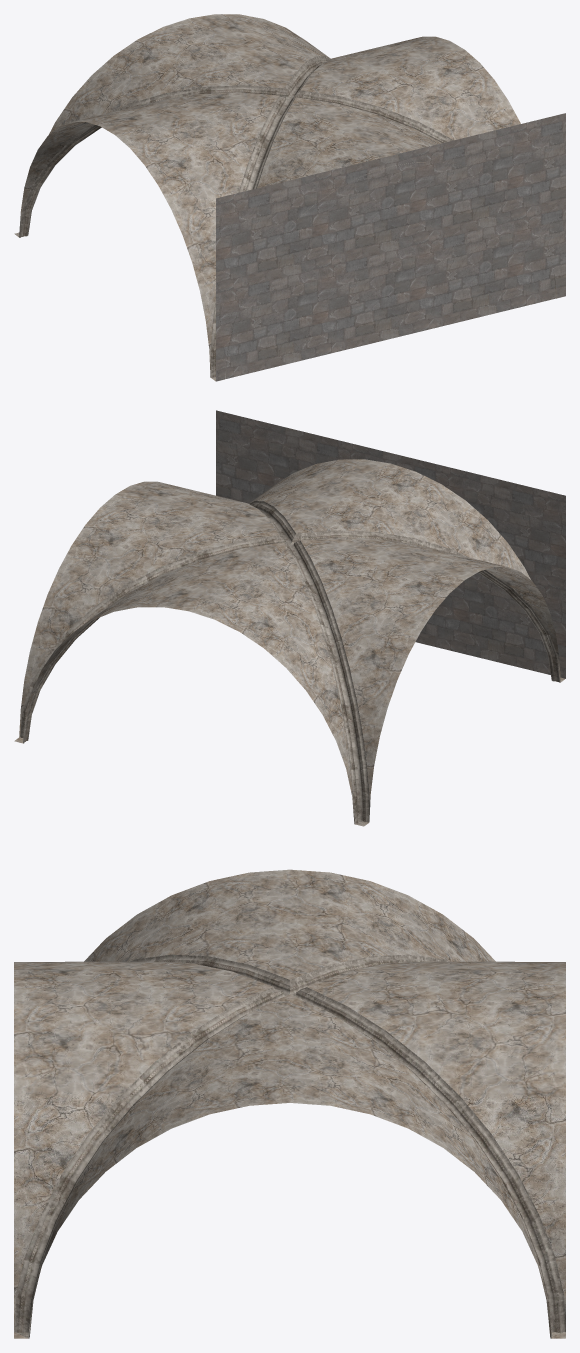
3 views of the same model, one above another, from view 1: azimuth 30°, elevation 25°; view 2: azimuth 150°, elevation 25°; view 3: azimuth 270°, elevation 25° (orthographic). The views are drawn at different scales.
Visible parts, largest first — view 1: SM_RoomCeiling_1Wall_LOD0; view 2: SM_RoomCeiling_1Wall_LOD0; view 3: SM_RoomCeiling_1Wall_LOD0.
Boxes of the visible parts, <box> form: SM_RoomCeiling_1Wall_LOD0: <box>14,14,565,381</box>; SM_RoomCeiling_1Wall_LOD0: <box>14,410,565,826</box>; SM_RoomCeiling_1Wall_LOD0: <box>14,869,565,1338</box>.
Size of the model in its own units: 6 by 3 by 6.
3 materials, 3 textured.
